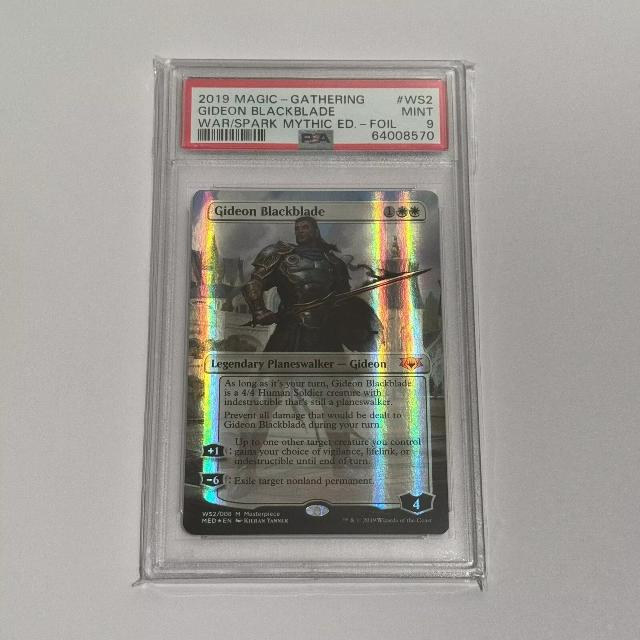card: (182, 189, 451, 536)
psa_label: (181, 77, 449, 149)
psa_slab: (142, 59, 487, 580)
